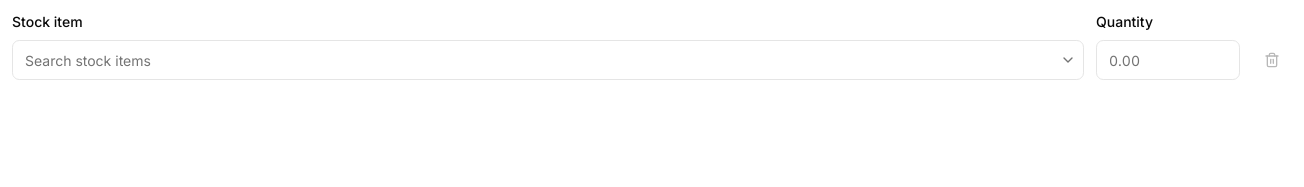
Test case: dispatch stock visibility › does not show cached balances in stock options without current inventory visibility
The width and height of the screenshot is (1304, 187).
Click the dropdown named "Stock item 1" at (534, 60), box [13,41,1056,79]
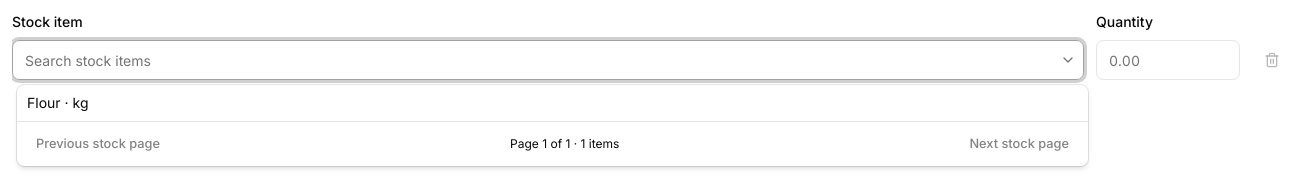
Now the option "Flour · kg" is shown, box [27,94,88,111]
